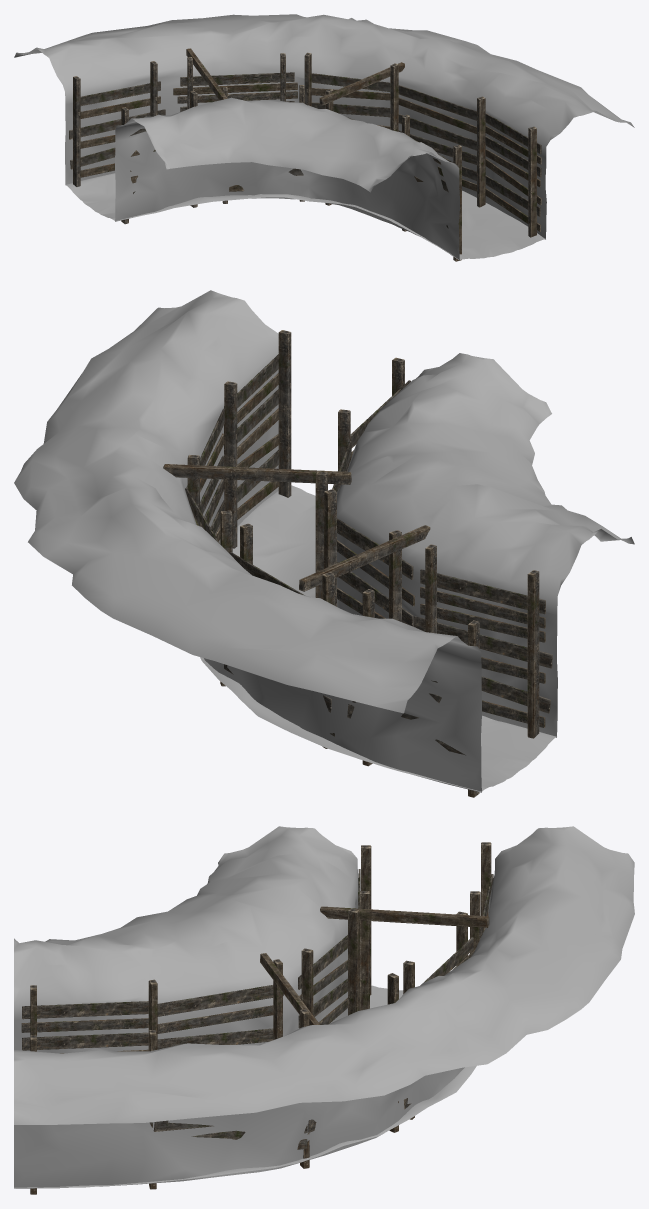
Rendered from Ground_Corner_Wood.fbx.
3 views of the same model, one above another, from view 1: azimuth 30°, elevation 25°; view 2: azimuth 150°, elevation 25°; view 3: azimuth 270°, elevation 25° (orthographic). The views are drawn at different scales.
Parts seen in each view (by area): view 1: Ground_Corner_Wood_LOD0; view 2: Ground_Corner_Wood_LOD0; view 3: Ground_Corner_Wood_LOD0.
Boxes of the visible parts, x1,y1,x2,y2 form: Ground_Corner_Wood_LOD0: [14, 14, 634, 261]; Ground_Corner_Wood_LOD0: [14, 290, 634, 797]; Ground_Corner_Wood_LOD0: [14, 826, 634, 1194].
Size of what is drawn, in the model's own units: 903 by 278 by 904.
